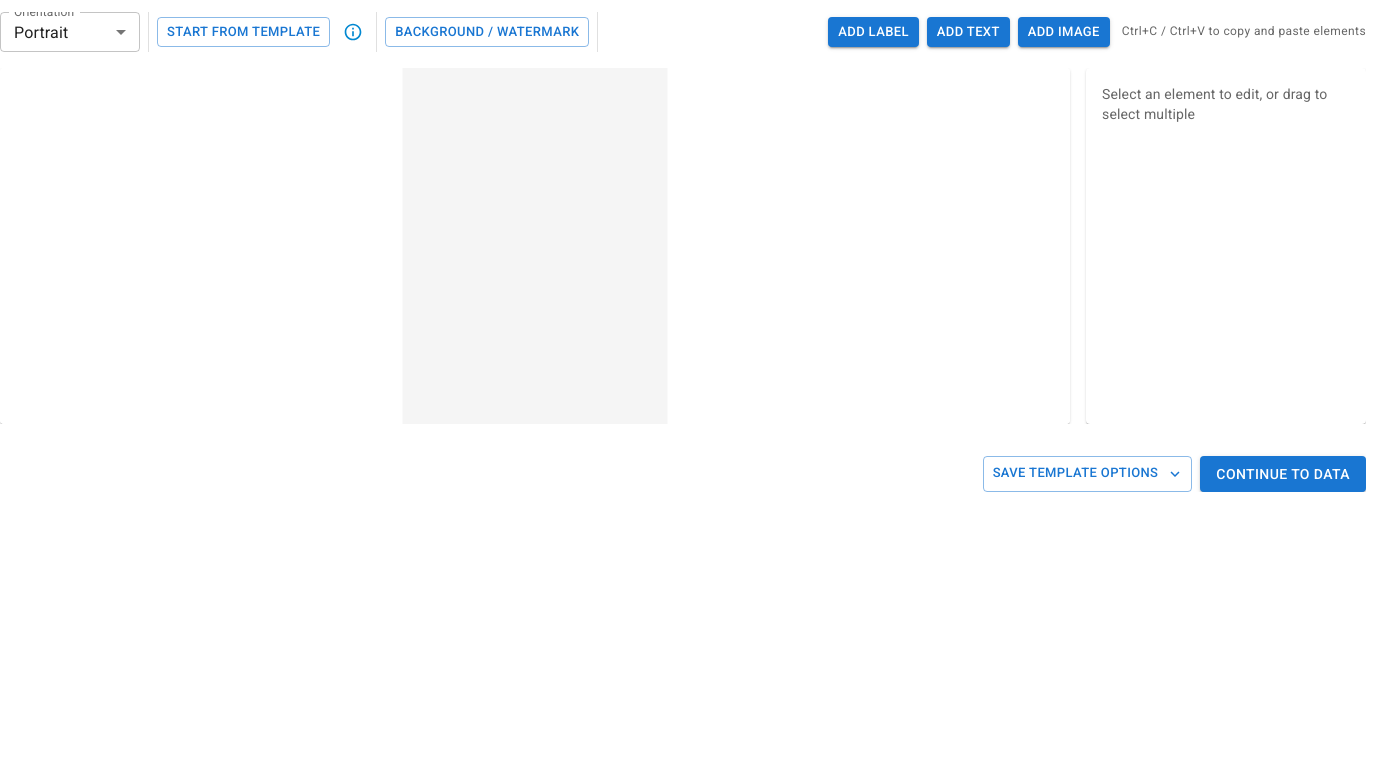
Test: DesignStep — adding elements › Add Text adds and selects a text element
What coordinates should you click on to do the following:
click the button "Add Text"
I would click on:
 (968, 32)
Its box is [927, 17, 1010, 47].
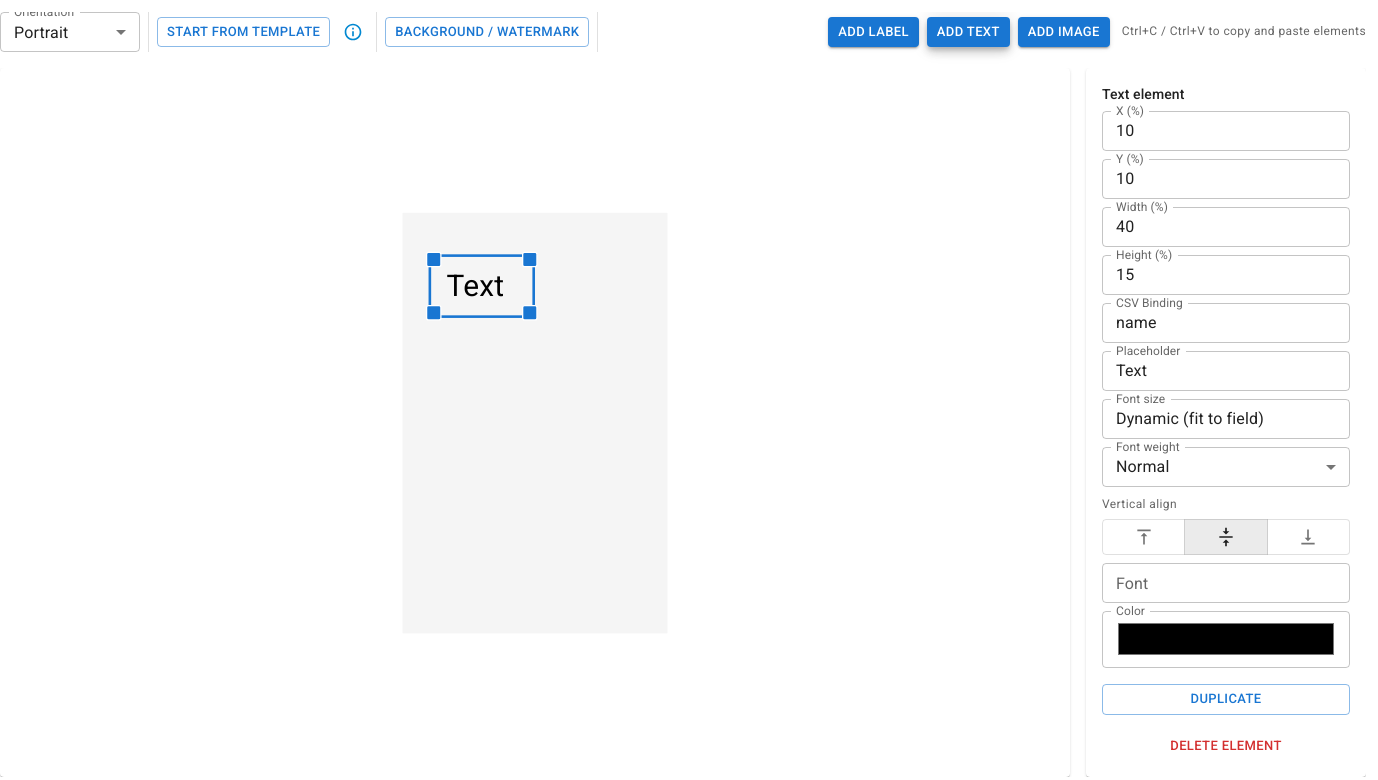
Check: the heading "Text element" is shown, box [1102, 86, 1184, 102]
